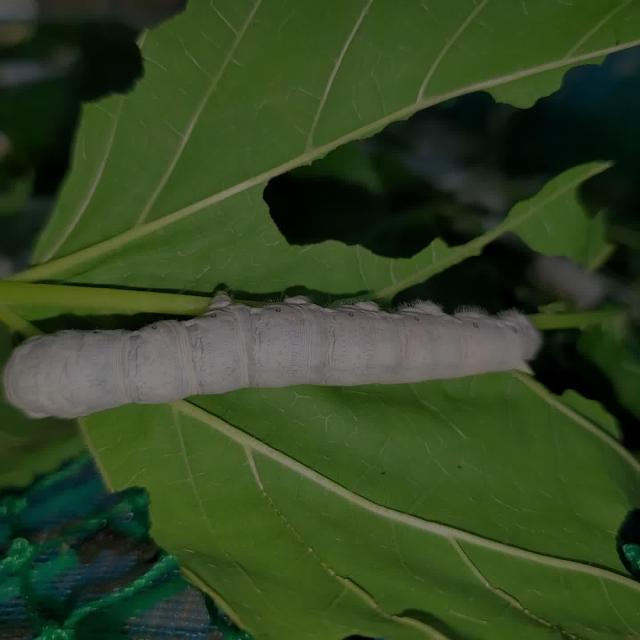Healthy: (0, 271, 640, 449)
